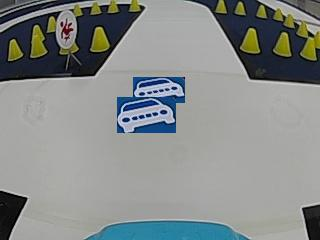cone: (240, 27, 261, 54), (90, 26, 110, 52), (273, 31, 292, 57), (29, 30, 45, 57), (300, 37, 316, 60), (7, 38, 21, 60), (296, 19, 308, 37), (214, 0, 227, 14), (256, 4, 267, 19), (284, 12, 294, 28), (107, 0, 118, 14), (90, 1, 101, 15), (234, 1, 245, 15), (46, 15, 55, 32), (273, 6, 283, 21), (73, 3, 83, 17), (129, 0, 140, 12)
tumble: (57, 12, 75, 45)
